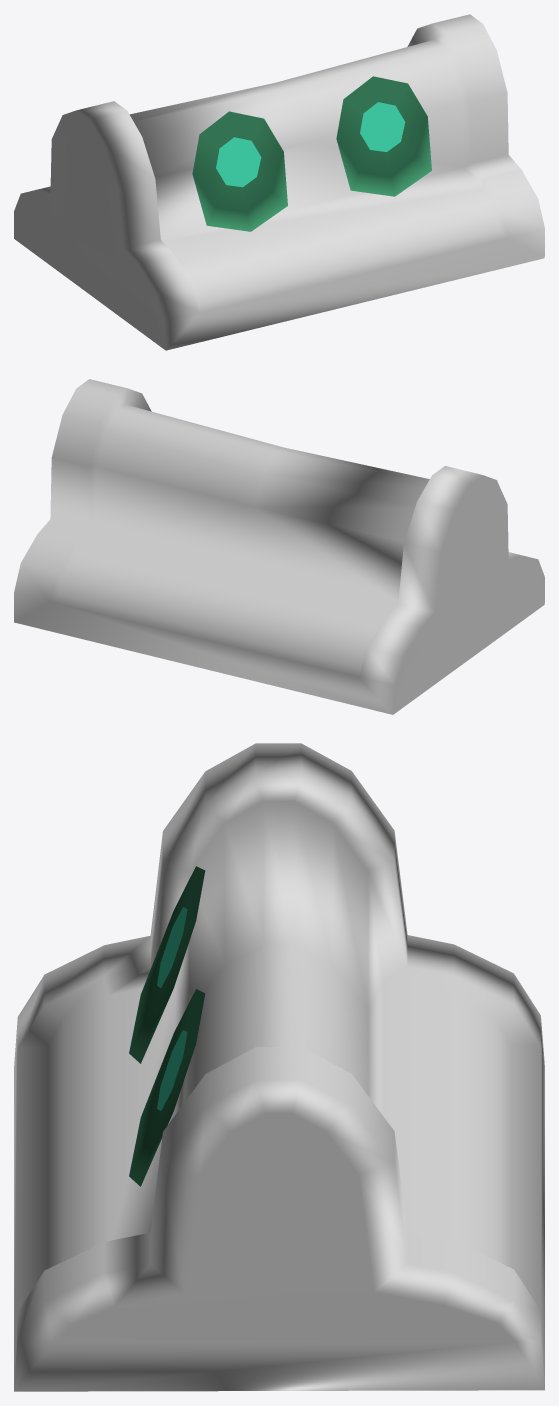
The model's file is MinionChestLid.glb.
3 renders of one model, top to bottom at view 1: azimuth 30°, elevation 25°; view 2: azimuth 150°, elevation 25°; view 3: azimuth 270°, elevation 25°, orthographic. The views are drawn at different scales.
Visible parts, largest first — view 1: MinionChestLid; view 2: MinionChestLid; view 3: MinionChestLid.
Boxes of the visible parts, x1=… form: MinionChestLid: x1=14, y1=14, x2=544, y2=350; MinionChestLid: x1=14, y1=379, x2=544, y2=714; MinionChestLid: x1=14, y1=743, x2=544, y2=1391.
Bounding box in the file's own units: 1.03 × 0.457 × 0.6898.
